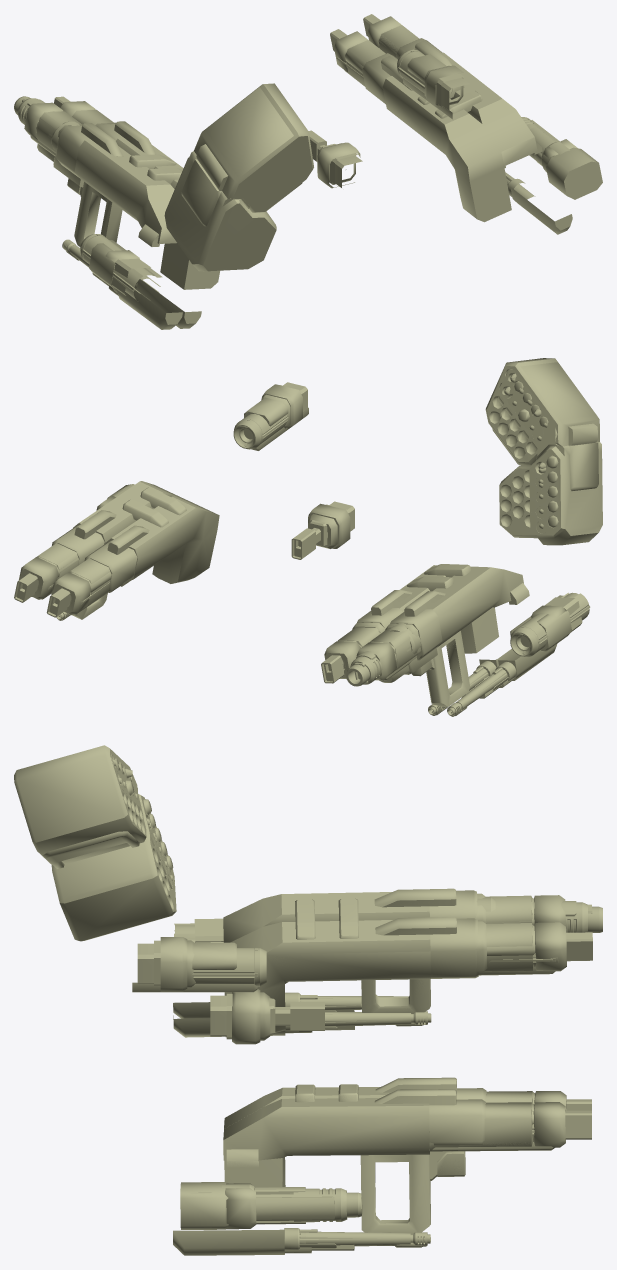
File: PhoenixhawkWeapons.glb
The picture shows the model from 3 angles, top to bottom: view 1: azimuth 30°, elevation 25°; view 2: azimuth 150°, elevation 25°; view 3: azimuth 270°, elevation 25°; orthographic projection. The views are drawn at different scales.
Visible parts, largest first — view 1: Forearm_Right_EH2_Flamer, Upperarm_Left_MH1_Missile15, Forearm_Left_BH1_AC10, Upperarm_Left_MH2_Missile15, Upperarm_Left_MH2_Missile10, Forearm_Left_EH1_Laser, Forearm_Right_EH1_PPC, Forearm_Right_EH2_Laser, Forearm_Right_BH3_AC5, Forearm_Left_EH2_Flamer, Forearm_Left_EH3_PPC, Forearm_Right_EH1_Laser (+18 smaller); view 2: Forearm_Left_BH1_AC10, Forearm_Right_EH2_Flamer, Upperarm_Left_MH1_Missile15, Upperarm_Left_MH2_Missile15, Forearm_Right_EH2_PPC, Upperarm_Left_MH2_Missile10, Forearm_Right_EH1_PPC, Forearm_Left_EH3_PPC, Torso_Right_EH1_PPC, Forearm_Left_EH2_Flamer, Forearm_Left_EH1_Laser, Forearm_Left_BH1_AC2 (+17 smaller); view 3: Forearm_Right_EH1_PPC, Forearm_Right_EH1_Laser, Upperarm_Left_MH2_Missile15, Forearm_Left_EH2_Flamer, Upperarm_Left_MH1_Missile15, Forearm_Left_EH1_Laser, Forearm_Left_BH2_AC5, Torso_Right_EH1_PPC, Forearm_Right_BH1_AC2, Forearm_Right_BH3_AC10, Forearm_Right_BH1_MG, Forearm_Right_EH2_Laser (+16 smaller).
Boxes of the visible parts, left/top/right/bottom form: Forearm_Right_EH2_Flamer: left=330, top=29, right=511, bottom=222; Upperarm_Left_MH1_Missile15: left=164, top=157, right=276, bottom=271; Forearm_Left_BH1_AC10: left=14, top=96, right=161, bottom=246; Upperarm_Left_MH2_Missile15: left=194, top=83, right=313, bottom=212; Upperarm_Left_MH2_Missile10: left=205, top=87, right=306, bottom=208; Forearm_Left_EH1_Laser: left=24, top=102, right=176, bottom=246; Forearm_Right_EH1_PPC: left=378, top=38, right=534, bottom=151; Forearm_Right_EH2_Laser: left=334, top=31, right=508, bottom=220; Forearm_Right_BH3_AC5: left=534, top=147, right=602, bottom=199; Forearm_Left_EH2_Flamer: left=54, top=96, right=219, bottom=289; Forearm_Left_EH3_PPC: left=80, top=234, right=162, bottom=300; Forearm_Right_EH1_Laser: left=367, top=16, right=541, bottom=167; Forearm_Left_BH1_AC10: left=346, top=567, right=528, bottom=706; Forearm_Right_EH2_Flamer: left=46, top=491, right=219, bottom=617; Upperarm_Left_MH1_Missile15: left=499, top=442, right=602, bottom=543; Upperarm_Left_MH2_Missile15: left=485, top=358, right=599, bottom=465; Forearm_Right_EH2_PPC: left=71, top=487, right=210, bottom=614; Upperarm_Left_MH2_Missile10: left=499, top=362, right=596, bottom=459; Forearm_Right_EH1_PPC: left=31, top=481, right=184, bottom=615; Forearm_Left_EH3_PPC: left=510, top=592, right=590, bottom=656; Torso_Right_EH1_PPC: left=233, top=396, right=308, bottom=450; Forearm_Left_EH2_Flamer: left=321, top=564, right=469, bottom=683; Forearm_Left_EH1_Laser: left=356, top=566, right=522, bottom=694; Forearm_Left_BH1_AC2: left=447, top=644, right=556, bottom=716; Forearm_Right_EH1_PPC: left=223, top=1089, right=554, bottom=1233; Forearm_Right_EH1_Laser: left=223, top=1099, right=565, bottom=1234; Upperarm_Left_MH2_Missile15: left=14, top=745, right=146, bottom=868; Forearm_Left_EH2_Flamer: left=225, top=898, right=592, bottom=995; Upperarm_Left_MH1_Missile15: left=51, top=801, right=176, bottom=941; Forearm_Left_EH1_Laser: left=223, top=888, right=565, bottom=1013; Forearm_Left_BH2_AC5: left=224, top=898, right=478, bottom=1037; Torso_Right_EH1_PPC: left=132, top=942, right=266, bottom=992; Forearm_Right_BH1_AC2: left=173, top=1228, right=430, bottom=1254; Forearm_Right_BH3_AC10: left=222, top=1184, right=362, bottom=1224; Forearm_Right_BH1_MG: left=173, top=1228, right=426, bottom=1255; Forearm_Right_EH2_Laser: left=224, top=1078, right=566, bottom=1187.
Bounding box in the file's own units: 1.58 × 0.8203 × 1.38.
